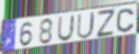6: (19, 21, 34, 47)
8: (38, 17, 54, 46)
C: (116, 8, 136, 34)
U: (76, 10, 97, 40), (56, 14, 76, 42)
Z: (96, 9, 115, 39)
